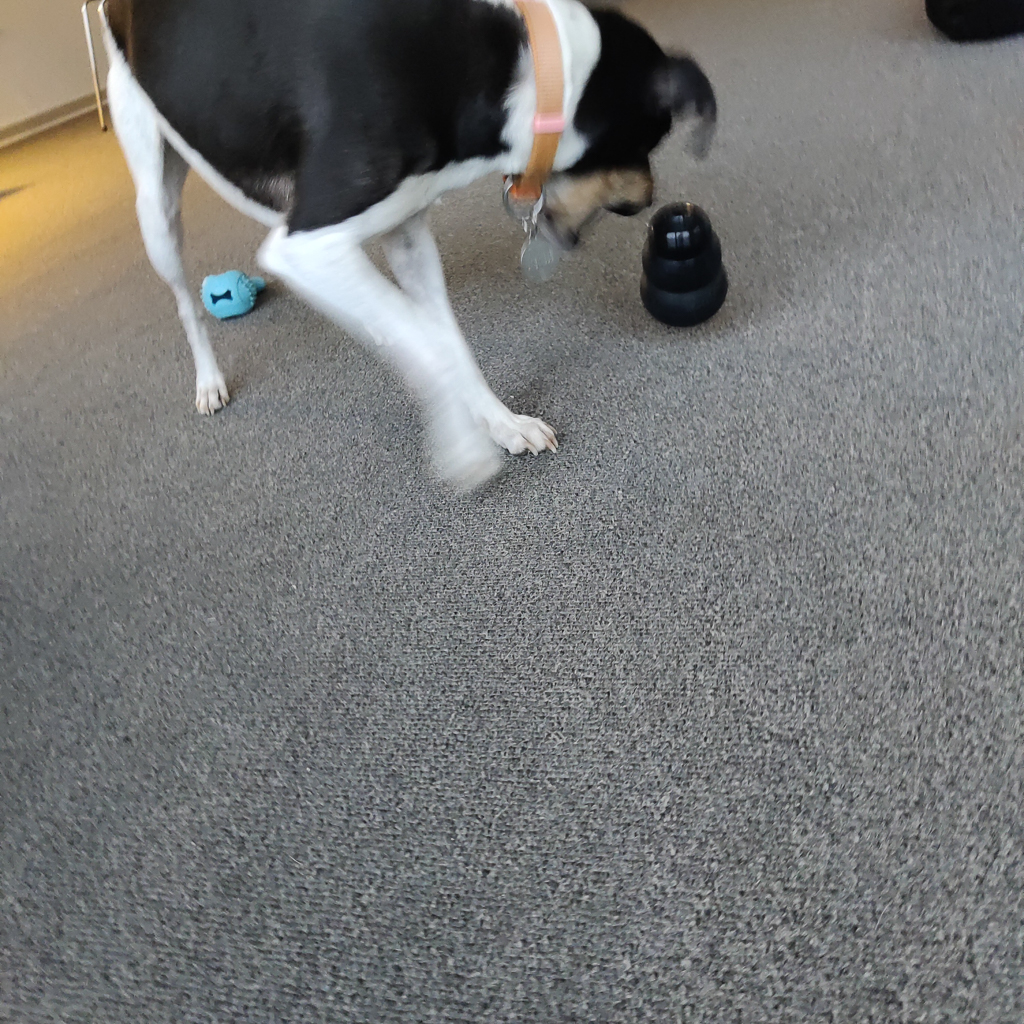Dog: (77, 0, 736, 514)
